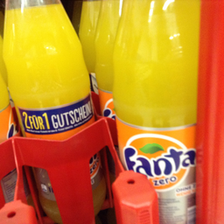soda: (2, 1, 106, 221), (110, 1, 202, 224)
